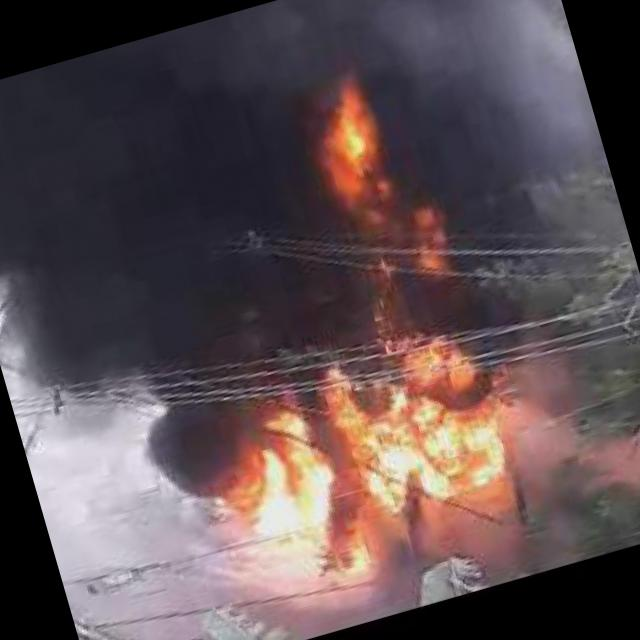fire: (173, 300, 549, 608), (284, 55, 471, 299)
smoke: (0, 2, 360, 430)
